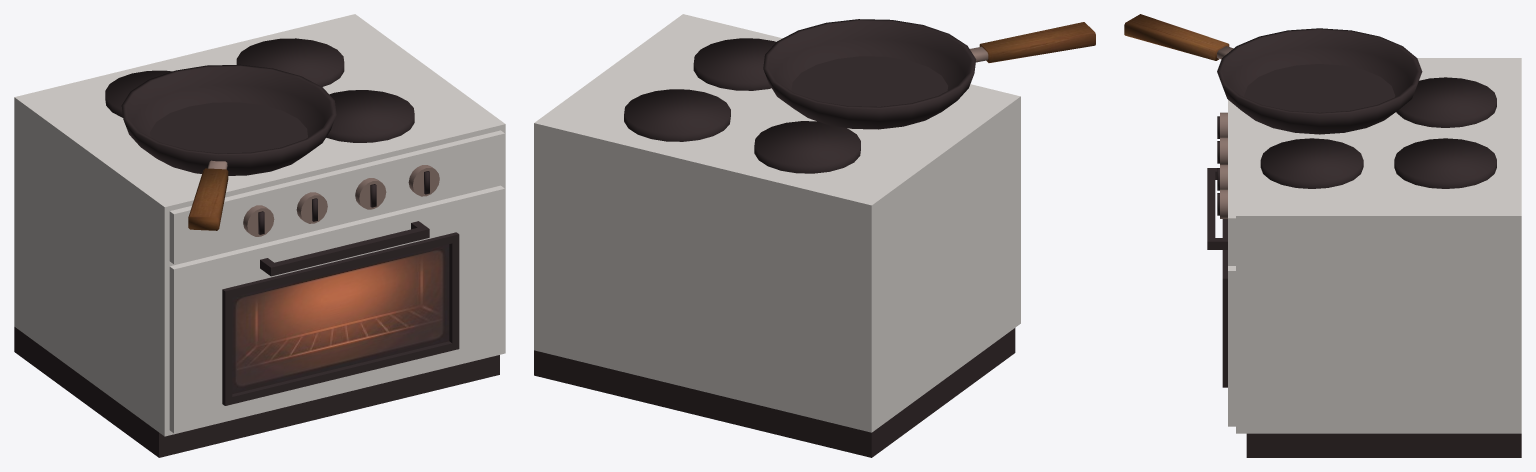
The model's file is Stove.glb.
The picture shows the model from 3 angles, left to right: view 1: azimuth 30°, elevation 25°; view 2: azimuth 150°, elevation 25°; view 3: azimuth 270°, elevation 25°; orthographic projection. The views are drawn at different scales.
Visible parts, largest first — view 1: Stove, Pan; view 2: Stove, Pan; view 3: Stove, Pan.
Boxes of the visible parts, x1,y1,x2,y2 form: Stove: [14, 14, 505, 457]; Pan: [121, 64, 336, 230]; Stove: [534, 14, 1020, 457]; Pan: [763, 19, 1095, 129]; Stove: [1207, 58, 1521, 457]; Pan: [1124, 14, 1422, 134].
Size of what is drawn, in the model's own units: 1.51 by 1.15 by 1.49.
3 materials, 3 textured.
